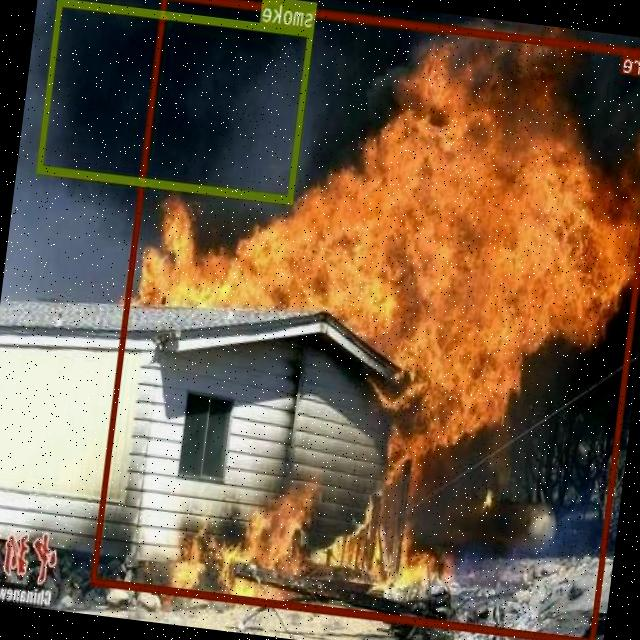fire: (91, 0, 640, 640)
smoke: (37, 0, 314, 202)
